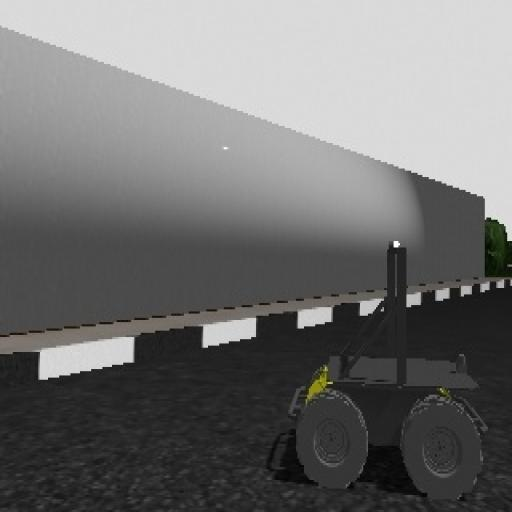huskya200: (289, 221, 484, 506)
